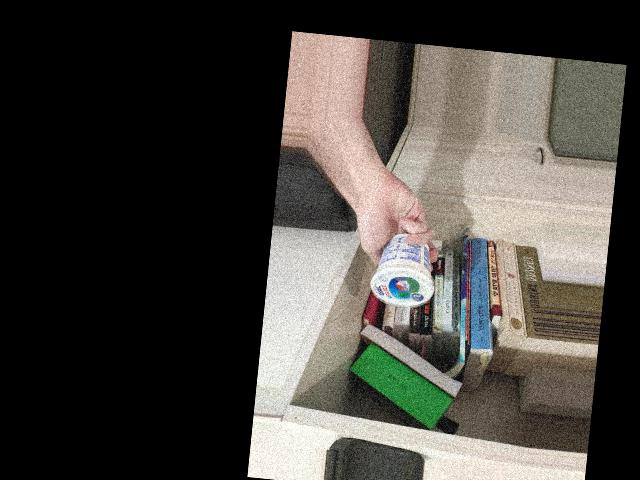cotage: (371, 219, 441, 313)
